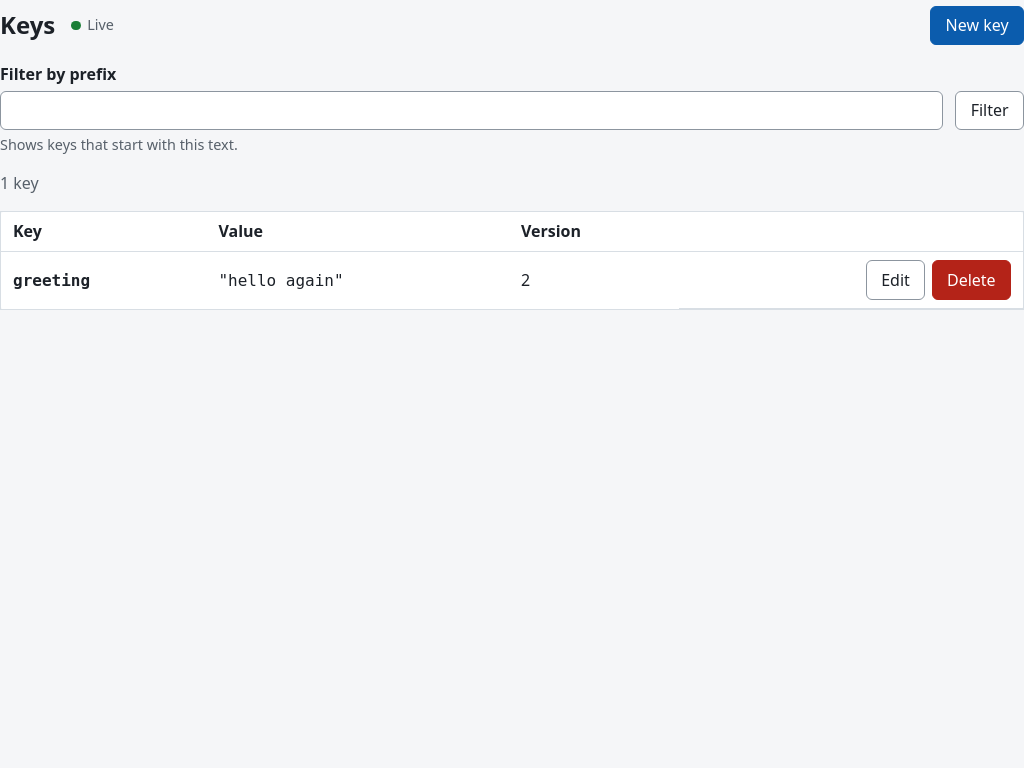
Test: KeysView › edits a key with If-Match set to the version shown, then shows the new version
Click the button with aria-label "Edit greeting" at (896, 280), box [866, 260, 925, 300]
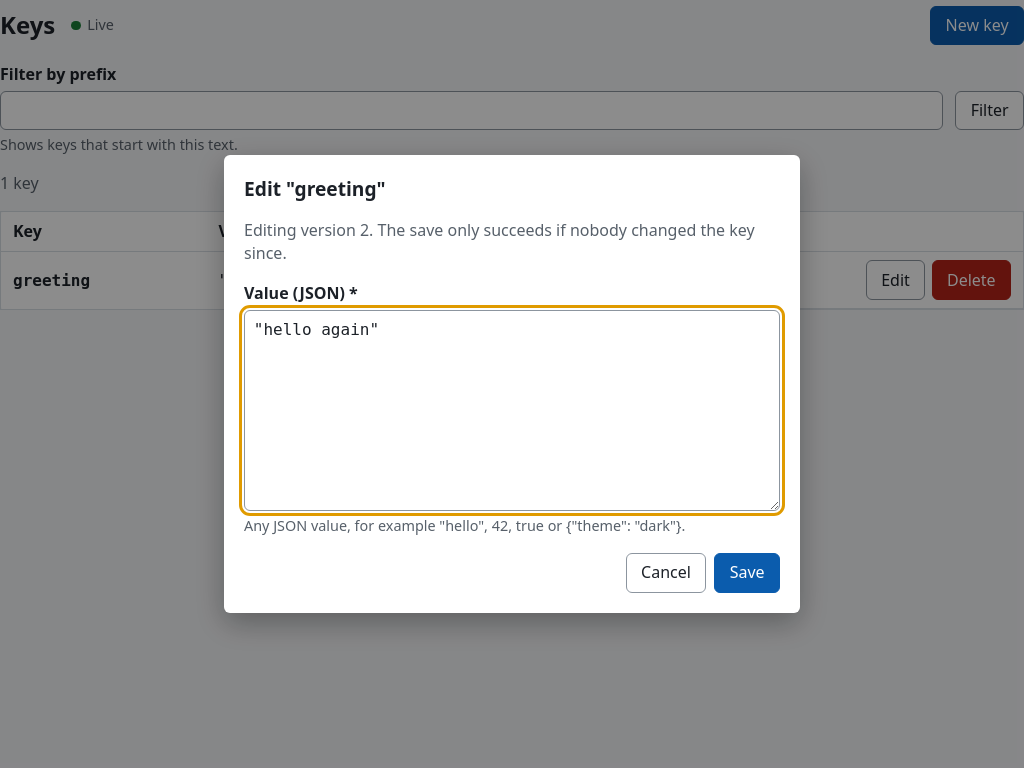
Check: the dialog shows "Editing version 2", box [244, 219, 755, 264]
Check: the text box labelled "Value (JSON) *" holds "\"hello again\""
Replace the text in the text box labelled "Value (JSON) *" with "\"edited\"" at (512, 410), box [244, 310, 780, 511]
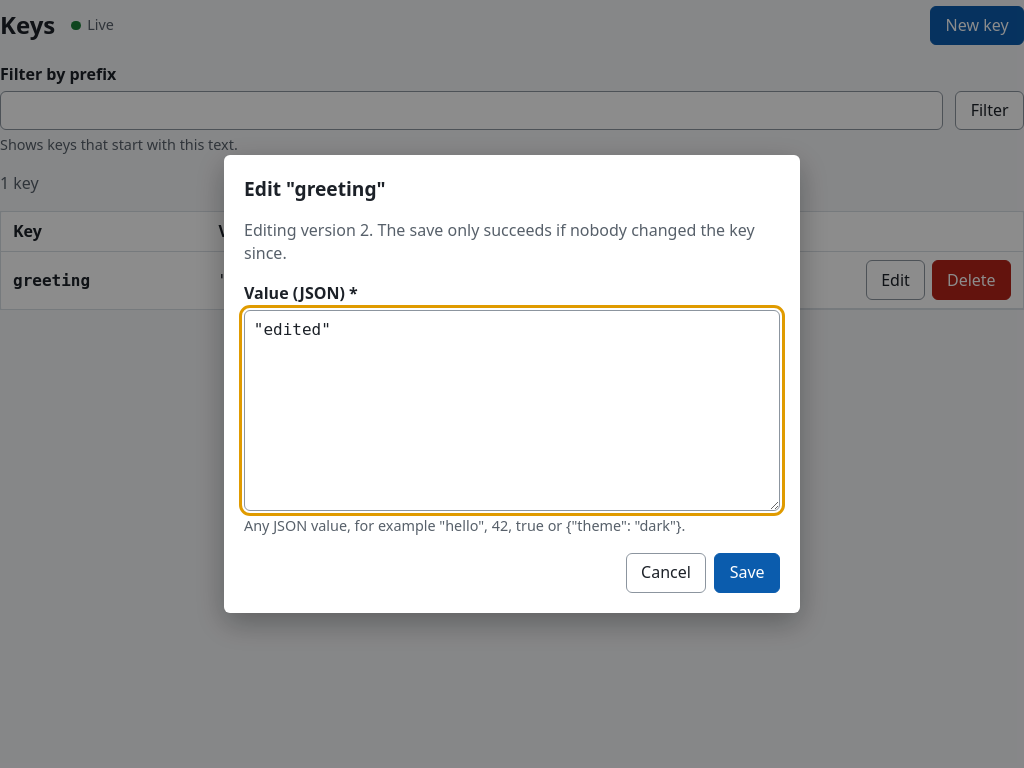
Submit the form with id "key-editor", box [244, 219, 780, 537]
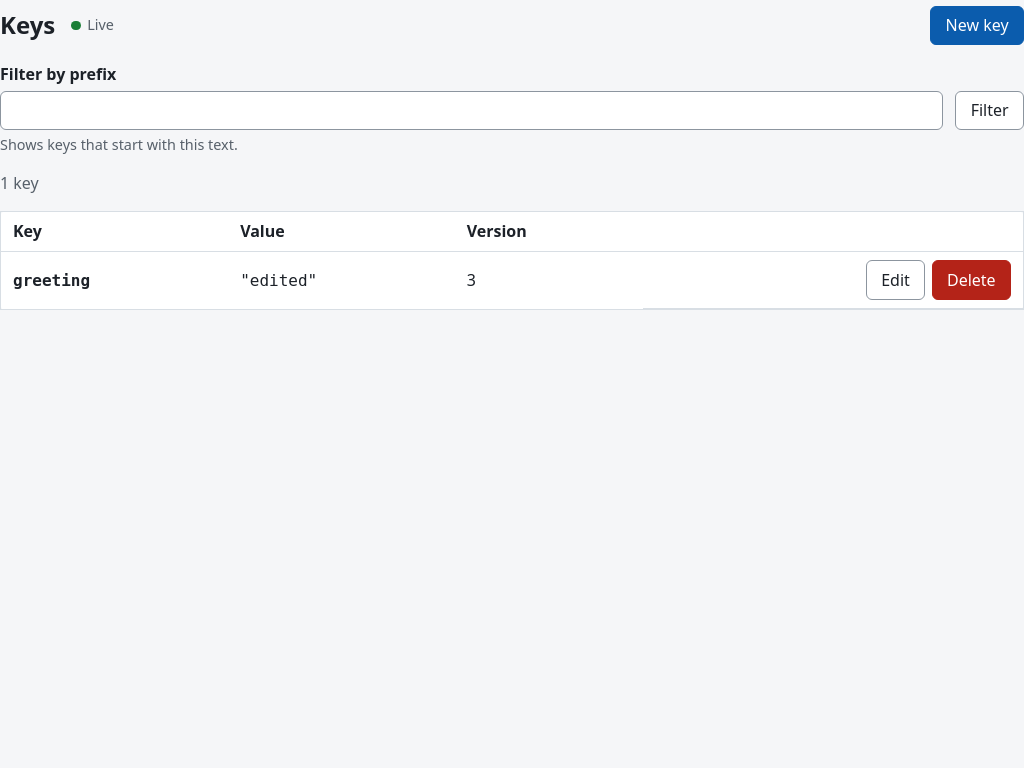
Check: the row "greeting \"edited\" 3 Edit Delete" shows "\"edited\"", box [240, 271, 317, 290]
Check: the row "greeting \"edited\" 3 Edit Delete" is shown, box [0, 252, 1023, 310]
